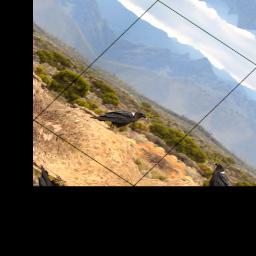Crow: (87, 93, 150, 142)
